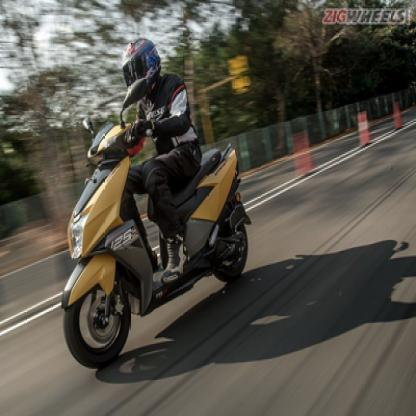Helmet: (120, 39, 167, 89)
